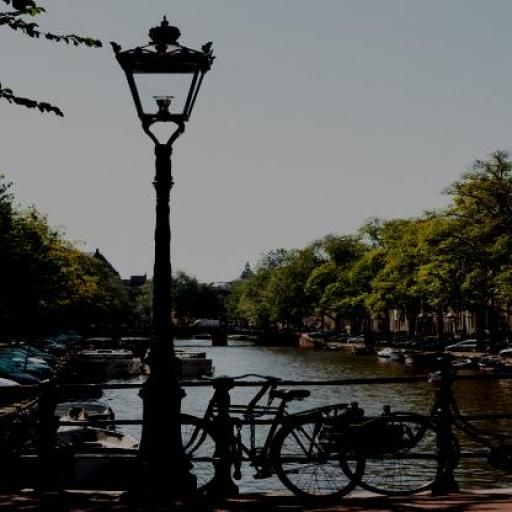street light: (110, 16, 216, 501)
